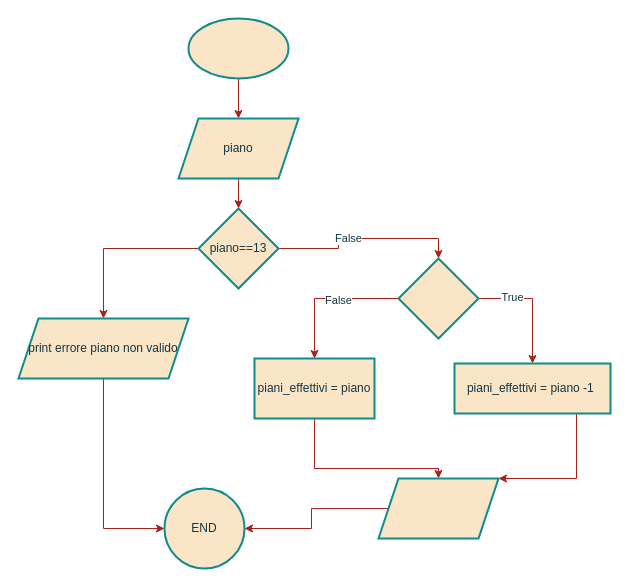
The diagram is 628 pixels wide and 586 high, and some of its shapes have lost their labels. Each missing label, with the box of its shape:
piano > 13: (397, 257, 479, 339)
print piani effettivi: (377, 477, 499, 539)
START: (187, 17, 289, 79)
